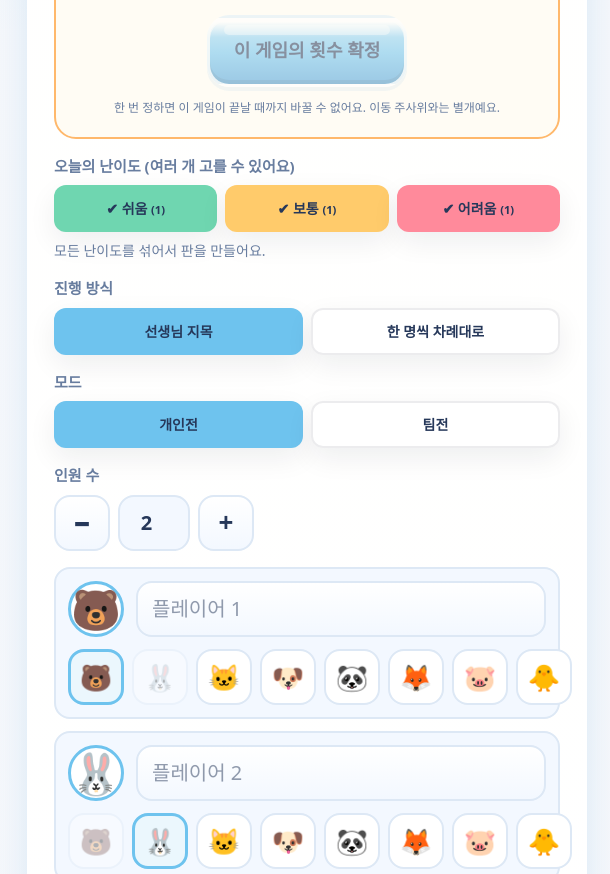
Test case: SetupView — animals (D-24, SETUP-07) › team mode labels the cards 팀 N
(page scrolled)
Click the button "팀전".
click(436, 425)  # box x1=311 y1=401 x2=560 y2=448
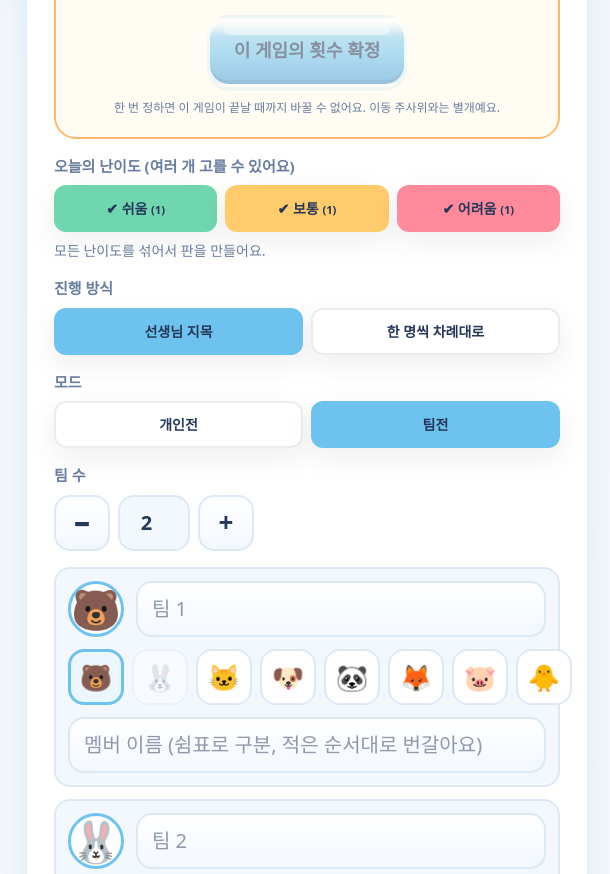
Expected: the element named "팀 1 동물" is shown, x1=68 y1=649 x2=546 y2=705
Result: the field named "팀 2 이름" is shown at x1=136 y1=813 x2=546 y2=869
